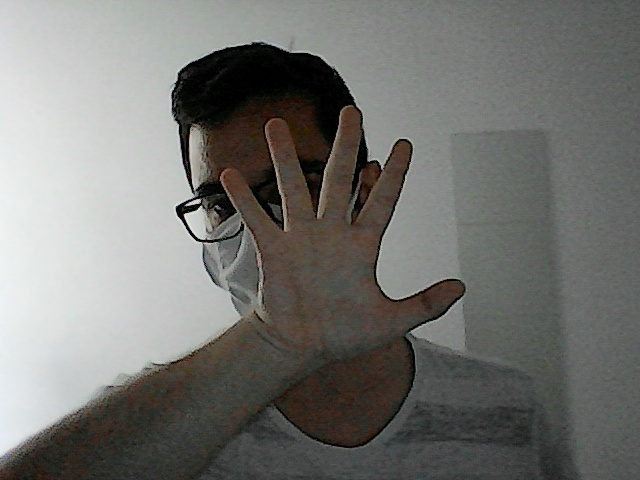jump: (215, 100, 473, 358)
